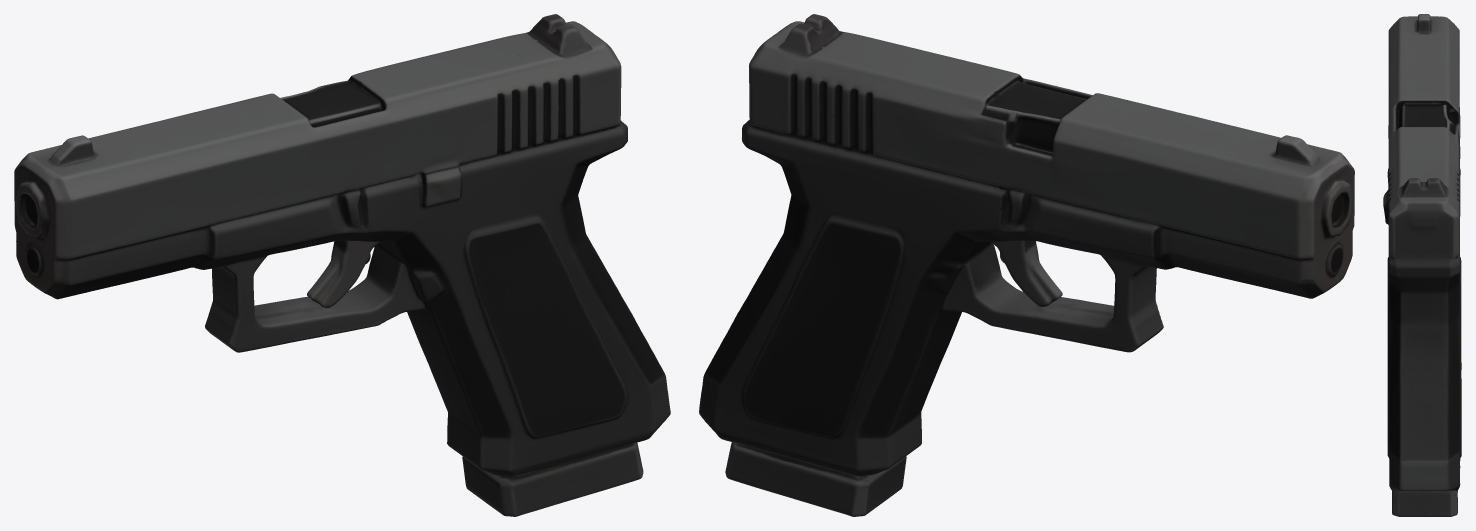
File: glock17.glb
3 views of the same model, side by side, from view 1: azimuth 30°, elevation 25°; view 2: azimuth 150°, elevation 25°; view 3: azimuth 270°, elevation 25° (orthographic). The views are drawn at different scales.
Parts seen in each view (by area): view 1: world; view 2: world; view 3: world.
Part boxes in pixels (<box>): world: <box>14,14,670,516</box>; world: <box>699,14,1354,516</box>; world: <box>1383,14,1461,516</box>.
Size of the model in its own units: 1 by 0.7082 by 0.1563.
1 material, 1 textured.
